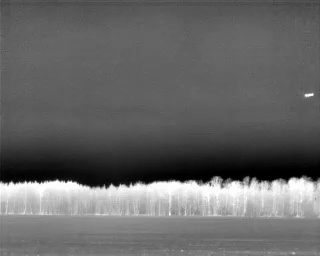DRONE: (301, 89, 318, 102)
